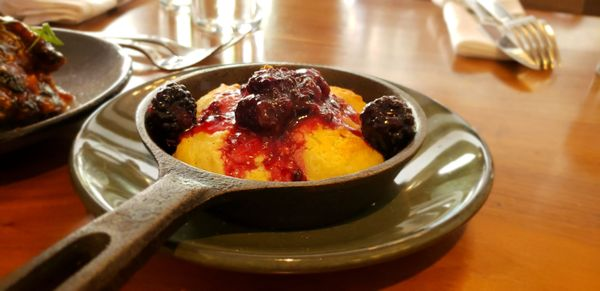burger: (467, 2, 559, 73)
sushi: (41, 62, 484, 253)
